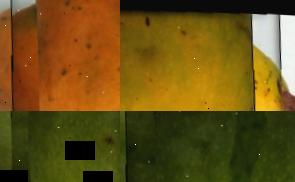PartiallyRipe: (120, 0, 289, 111)
Ripe: (4, 0, 120, 111)
Unripe: (120, 111, 295, 182), (6, 111, 120, 182)
